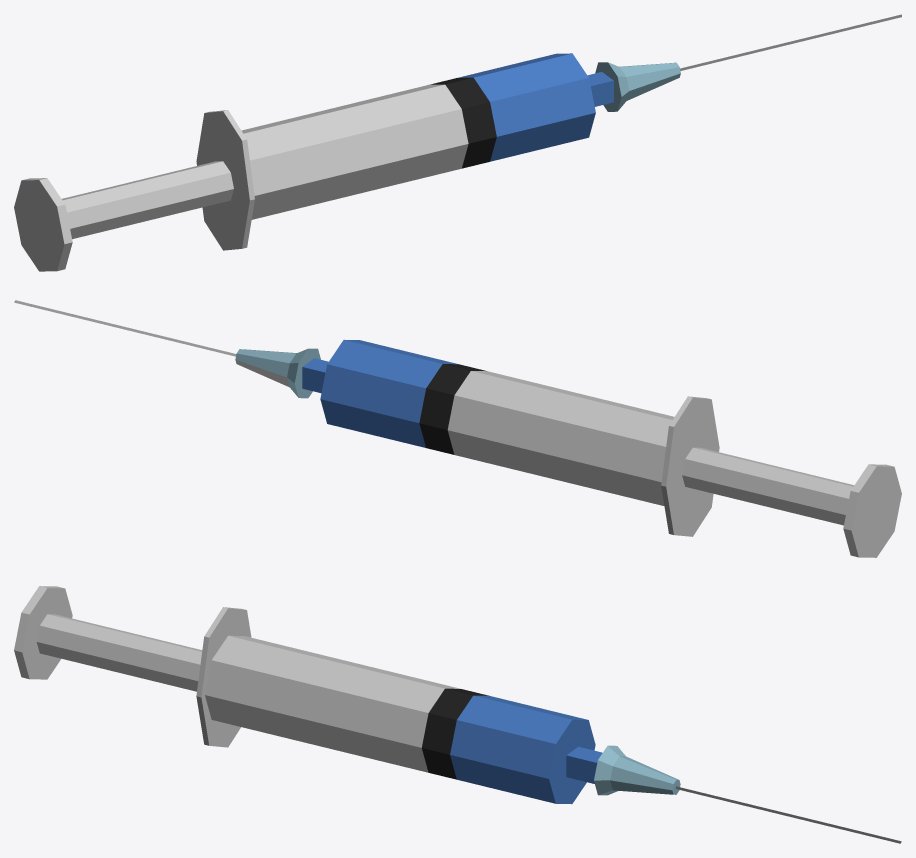
Rendered from Syringe_vc.fbx.
3 views of the same model, one above another, from view 1: azimuth 30°, elevation 25°; view 2: azimuth 150°, elevation 25°; view 3: azimuth 330°, elevation 25° (orthographic).
Parts seen in each view (by area): view 1: Syringe_vc; view 2: Syringe_vc; view 3: Syringe_vc.
Part boxes in pixels (x1=…): Syringe_vc: x1=14, y1=14, x2=901, y2=271; Syringe_vc: x1=14, y1=300, x2=901, y2=557; Syringe_vc: x1=14, y1=586, x2=901, y2=843.
Size of the model in its own units: 12.14 by 1.88 by 1.3.
